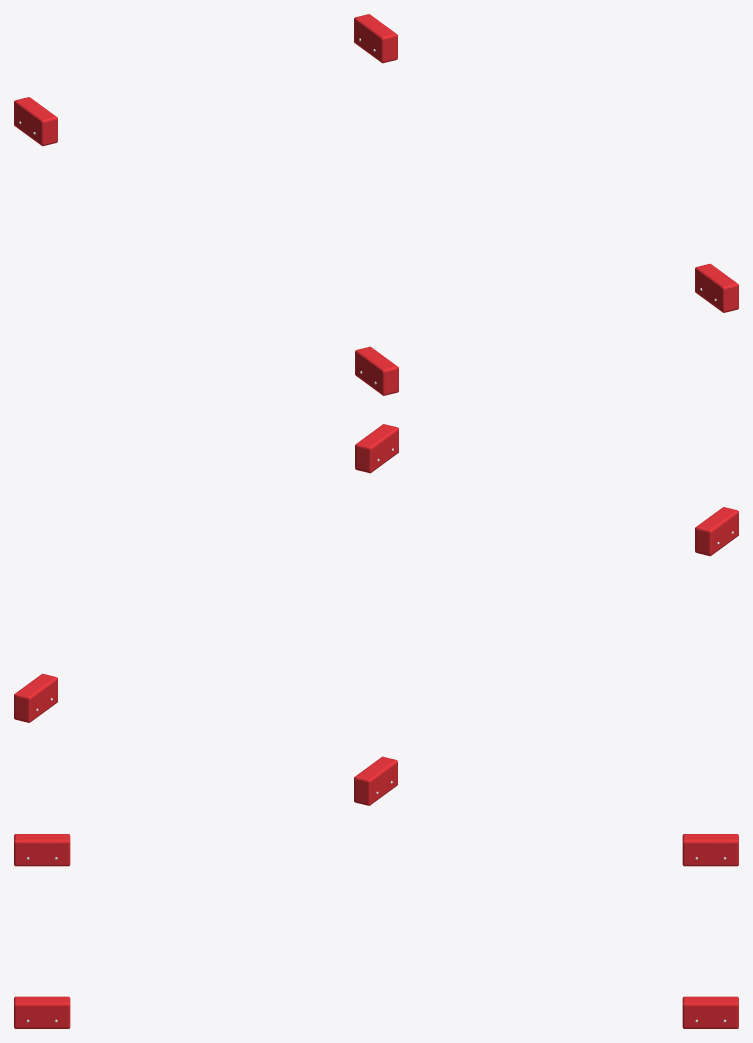
File: brake_calipers.glb
3 renders of one model, top to bottom at view 1: azimuth 30°, elevation 25°; view 2: azimuth 150°, elevation 25°; view 3: azimuth 270°, elevation 25°, orthographic. The views are drawn at different scales.
Visible parts, largest first — view 1: CALIPER_FR, CALIPER_FL, CALIPER_RL, CALIPER_RR; view 2: CALIPER_RR, CALIPER_FL, CALIPER_RL, CALIPER_FR; view 3: CALIPER_FR, CALIPER_RR, CALIPER_FL, CALIPER_RL.
Part boxes in pixels (box(x1,y1,x2,y2)): CALIPER_FR: box(14, 97, 57, 146); CALIPER_FL: box(354, 14, 397, 63); CALIPER_RL: box(695, 263, 738, 312); CALIPER_RR: box(355, 346, 398, 395); CALIPER_RR: box(695, 507, 738, 556); CALIPER_FL: box(14, 673, 57, 722); CALIPER_RL: box(355, 424, 398, 473); CALIPER_FR: box(354, 756, 397, 805); CALIPER_FR: box(682, 834, 738, 866); CALIPER_RR: box(14, 834, 70, 866); CALIPER_FL: box(682, 996, 738, 1028); CALIPER_RL: box(14, 996, 70, 1028).
Bounding box in the file's own units: 1.73 × 0.12 × 3.09.
